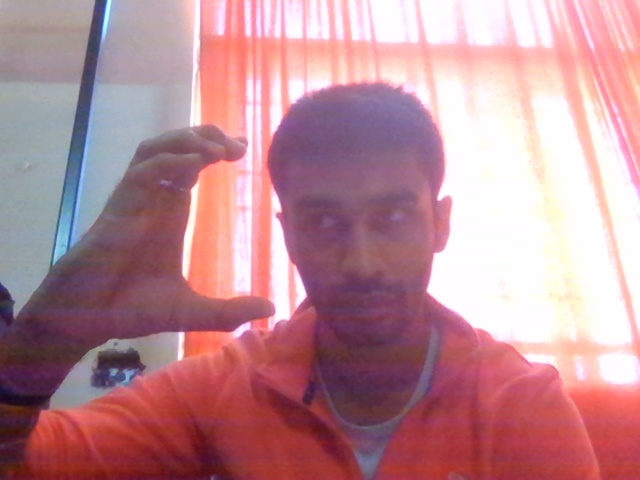C: (24, 101, 283, 395)
